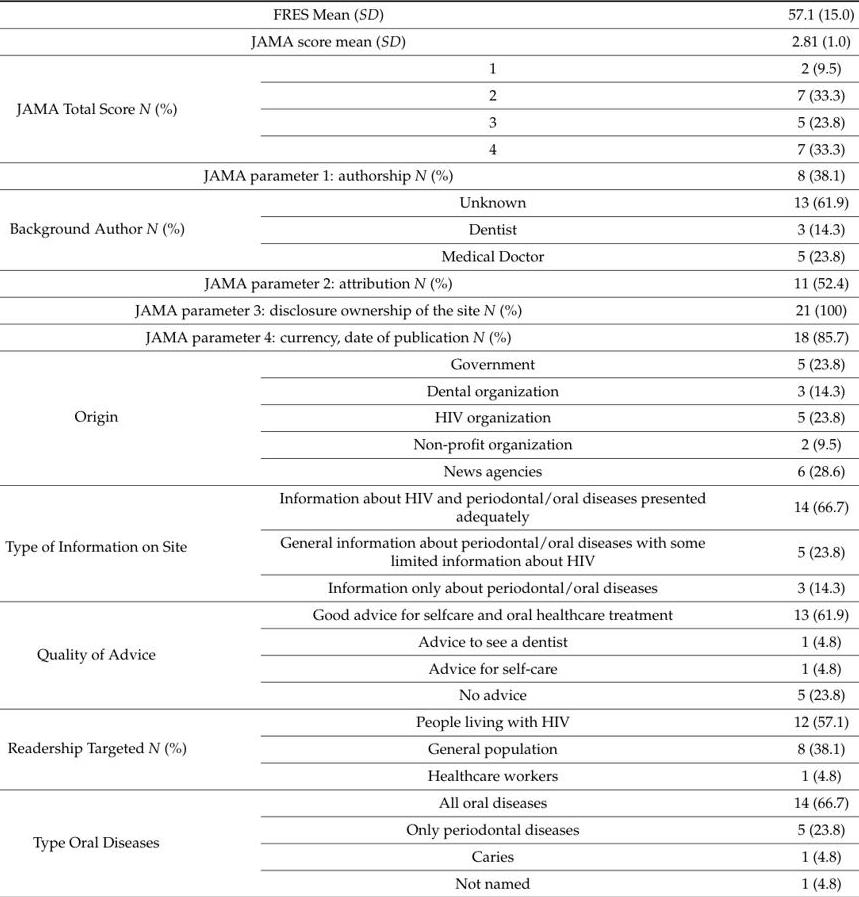table: (4, 4, 853, 891)
table column: (232, 4, 746, 891), (4, 4, 232, 891), (746, 4, 853, 891)
table row: (4, 528, 853, 573), (4, 484, 853, 528), (4, 27, 853, 54), (4, 54, 853, 81), (4, 107, 853, 134), (4, 134, 853, 161), (4, 161, 853, 188), (4, 188, 853, 215), (4, 215, 853, 242), (4, 242, 853, 269), (4, 269, 853, 296), (4, 296, 853, 323), (4, 349, 853, 376), (4, 376, 853, 403), (4, 403, 853, 430), (4, 430, 853, 457), (4, 457, 853, 484), (4, 573, 853, 600), (4, 600, 853, 627), (4, 627, 853, 654), (4, 654, 853, 681), (4, 681, 853, 708), (4, 734, 853, 761), (4, 761, 853, 788), (4, 788, 853, 815), (4, 815, 853, 842), (4, 842, 853, 869), (4, 81, 853, 107), (4, 323, 853, 349), (4, 708, 853, 734), (4, 4, 853, 27), (4, 869, 853, 891)
table spanning cell: (4, 349, 232, 484), (4, 484, 232, 600), (4, 600, 232, 708), (4, 54, 232, 161), (4, 788, 232, 891), (4, 27, 746, 54), (4, 161, 746, 188), (4, 269, 746, 296), (4, 296, 746, 323), (4, 323, 746, 349), (4, 188, 232, 269), (4, 708, 232, 788), (4, 4, 746, 27)
